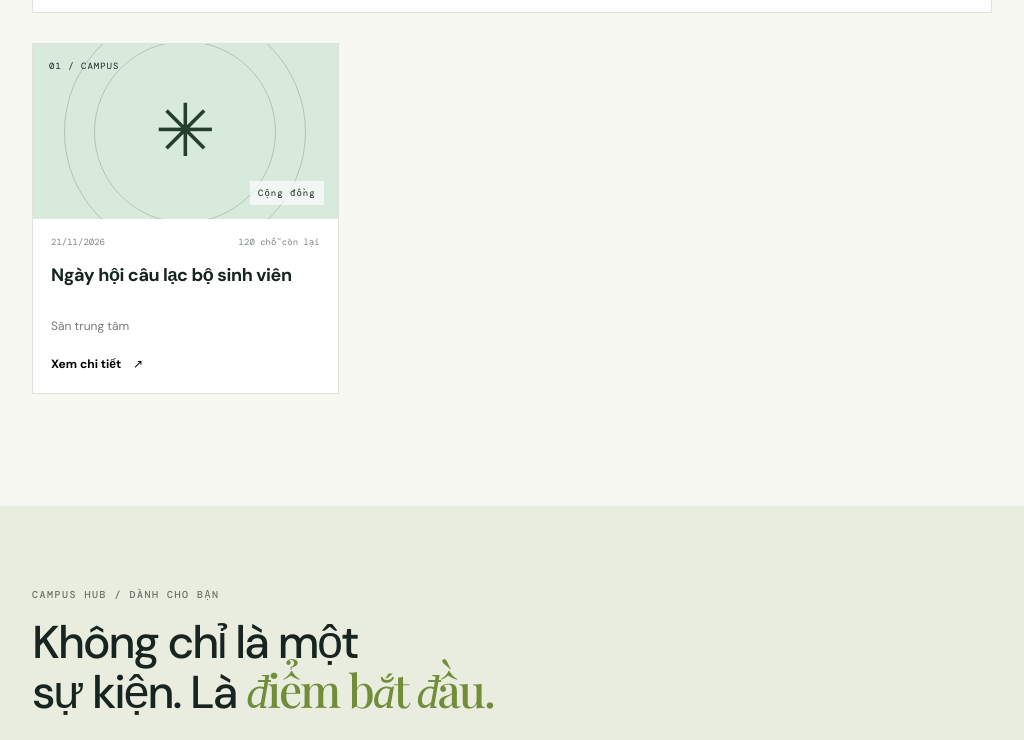
Test case: Campus Hub event portal › registers from event details and confirms without echoing the email
(page scrolled)
Check: the heading "Ngày hội câu lạc bộ sinh viên" is shown, box top-left (51, 263), bottom-right (292, 287)
Click the button "Xem chi tiết ↗": (97, 364) top-left (51, 356), bottom-right (143, 372)
(page scrolled)
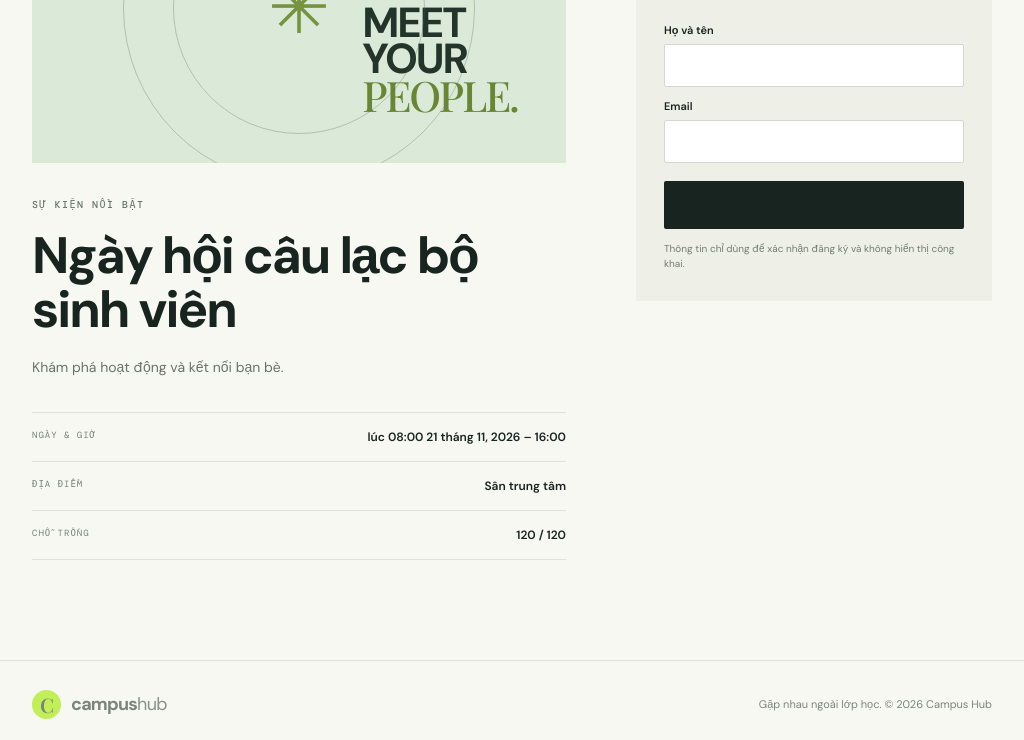
Check: the field labelled "Họ và tên" is shown
In the field labelled "Họ và tên": (814, 65) top-left (664, 44), bottom-right (964, 86), type "Nguyễn An"
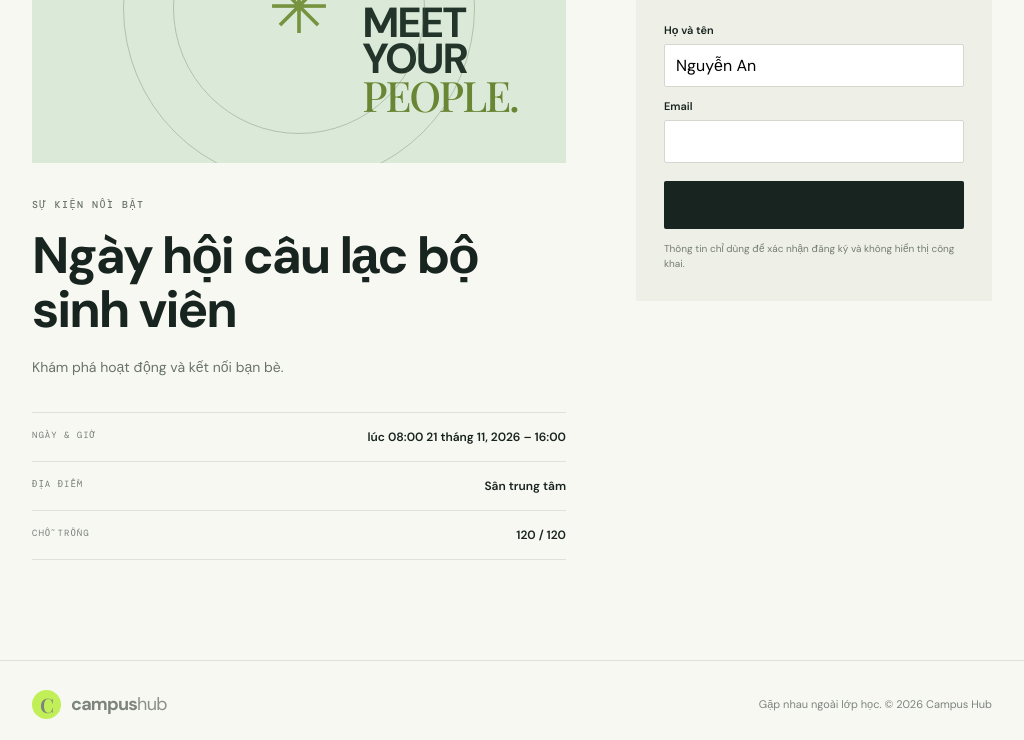
In the field labelled "Email": (814, 141) top-left (664, 120), bottom-right (964, 162), type "an@example.com"
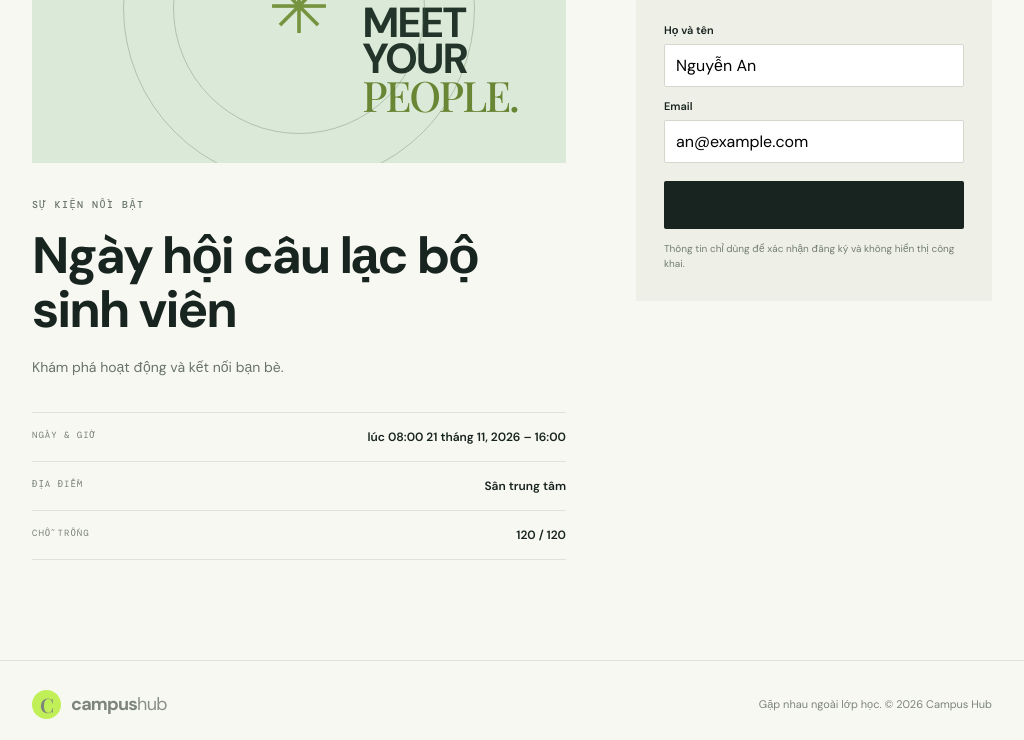
Click the button "Đăng ký tham gia ↗": (814, 204) top-left (664, 180), bottom-right (964, 228)
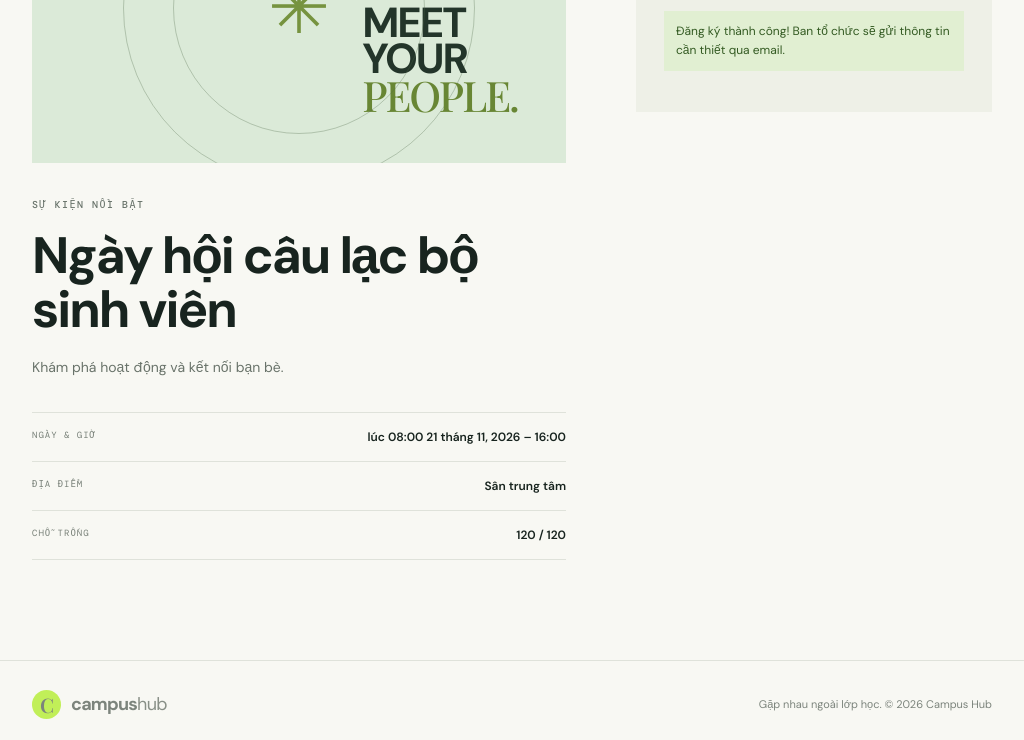
Check: the message does not show "an@example.com", box top-left (664, 10), bottom-right (964, 71)
Check: the message shows "Đăng ký thành công", box top-left (676, 22), bottom-right (950, 58)
